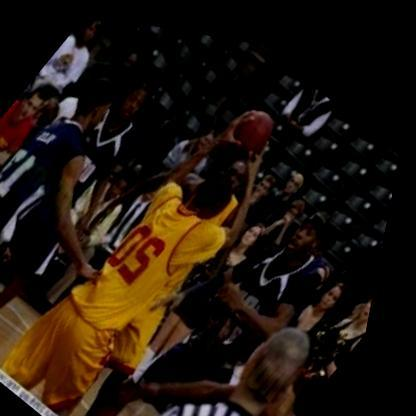basketball: (216, 84, 294, 160)
